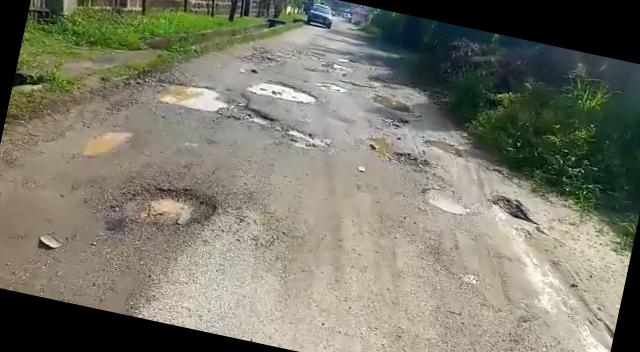pothole: (109, 173, 224, 250), (240, 102, 338, 156), (155, 78, 233, 117), (246, 74, 322, 106), (419, 182, 479, 216), (318, 80, 349, 93)
